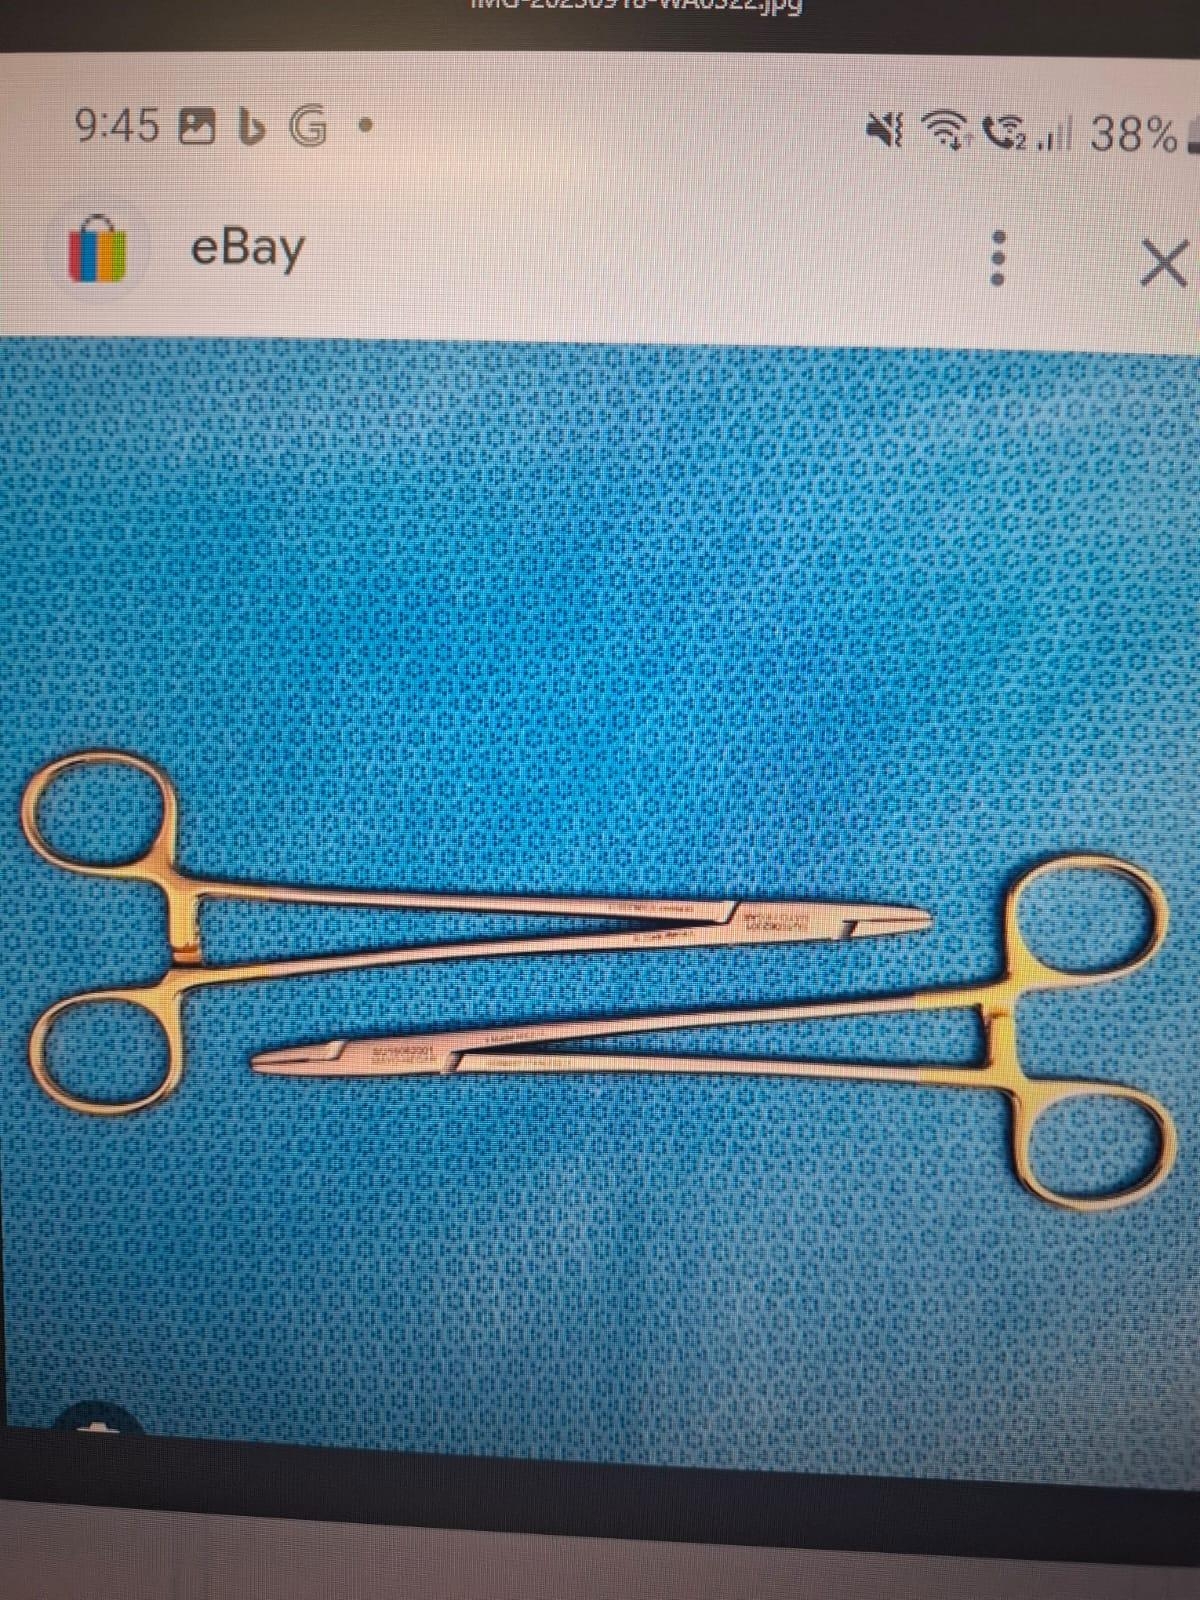Needle Holder: (250, 843, 1182, 1242), (10, 732, 938, 1112)
